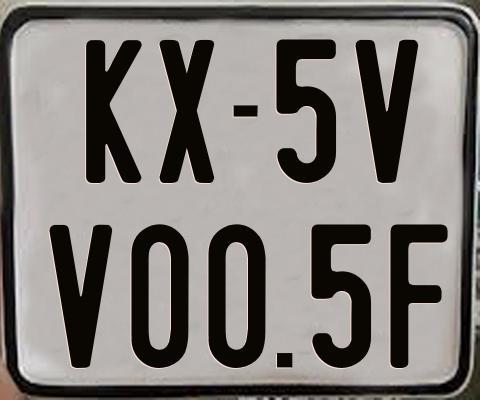0: (205, 223, 267, 371), (130, 221, 193, 365)
5: (308, 221, 374, 368), (274, 38, 339, 187)
F: (388, 221, 449, 365)
K: (85, 37, 142, 184)
V: (47, 223, 116, 370), (353, 40, 419, 183)
X: (157, 39, 215, 188)
